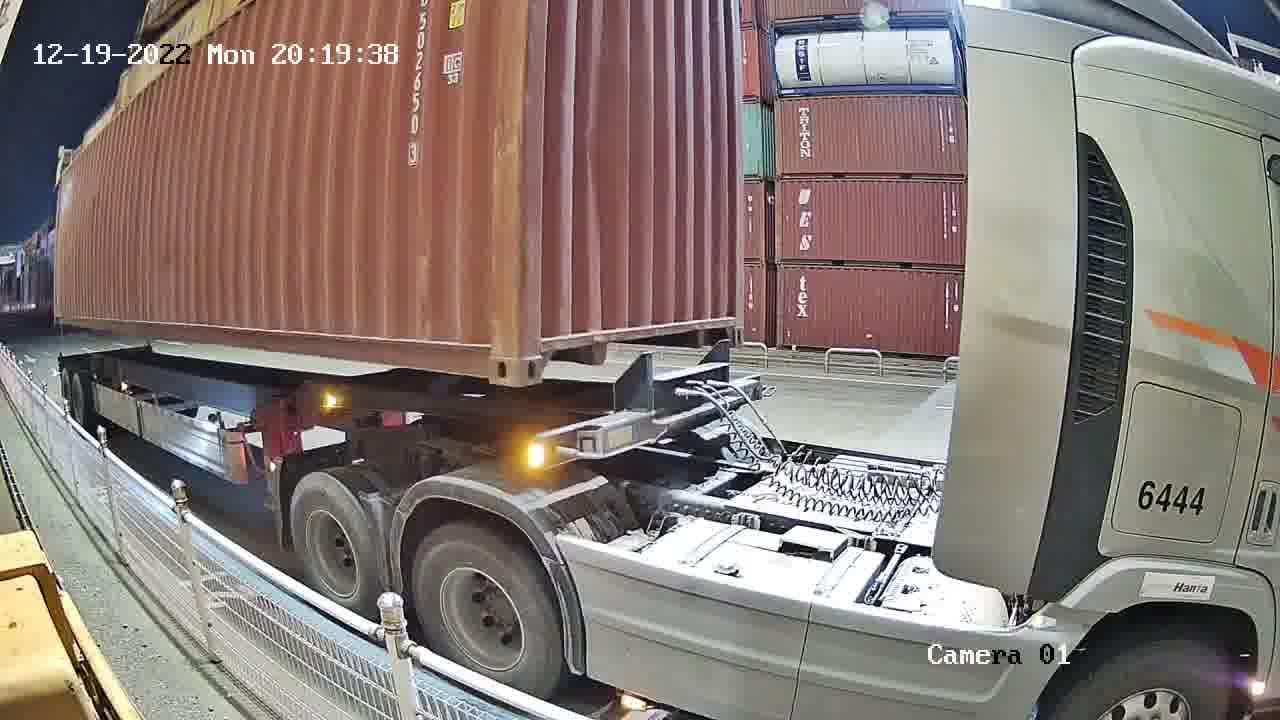Chassis: (532, 379, 765, 469)
Hole_L: (517, 319, 571, 387)
Hole_R: (459, 322, 518, 385), (705, 297, 744, 345)
Tire: (414, 528, 557, 691), (292, 475, 374, 607)
